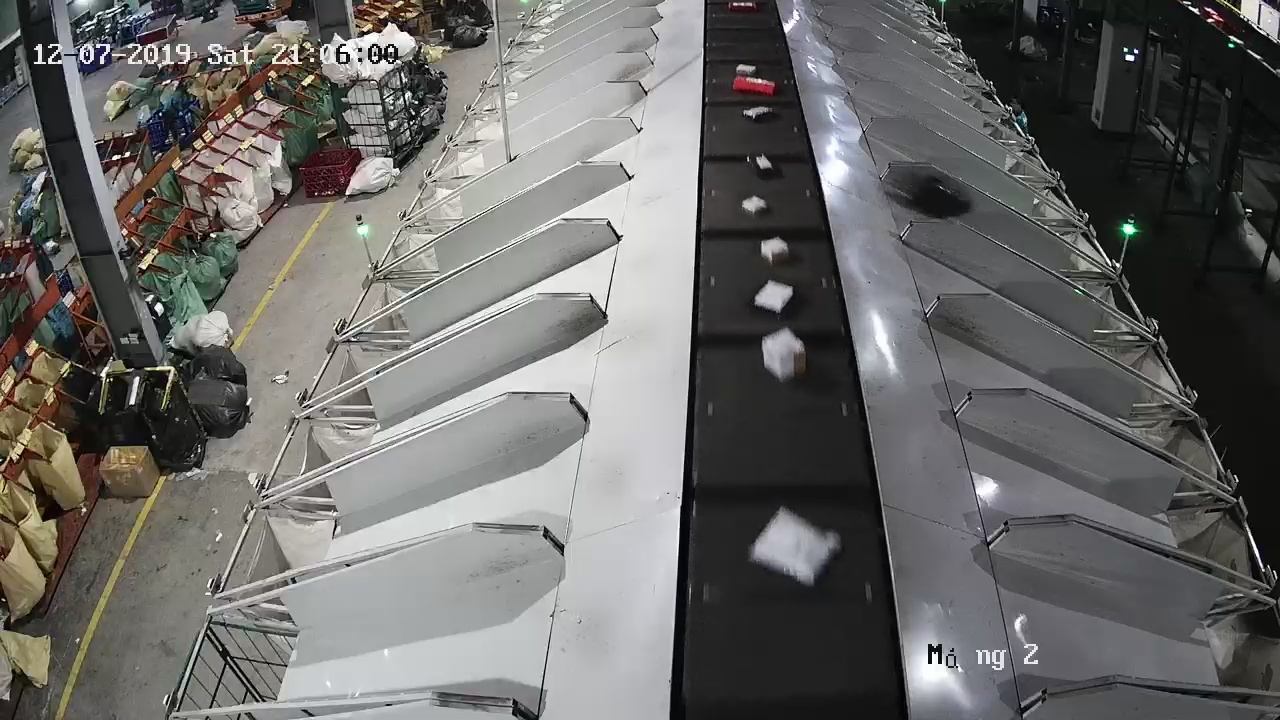parcel: (910, 177, 970, 219)
